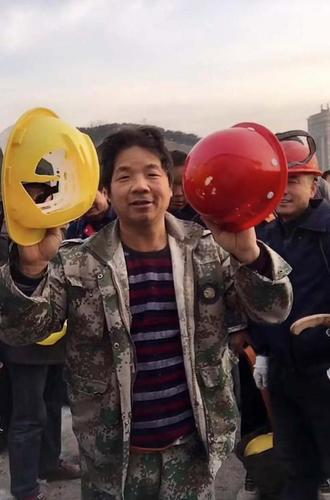helmet: (2, 109, 102, 248), (184, 127, 290, 239), (269, 136, 330, 179)
